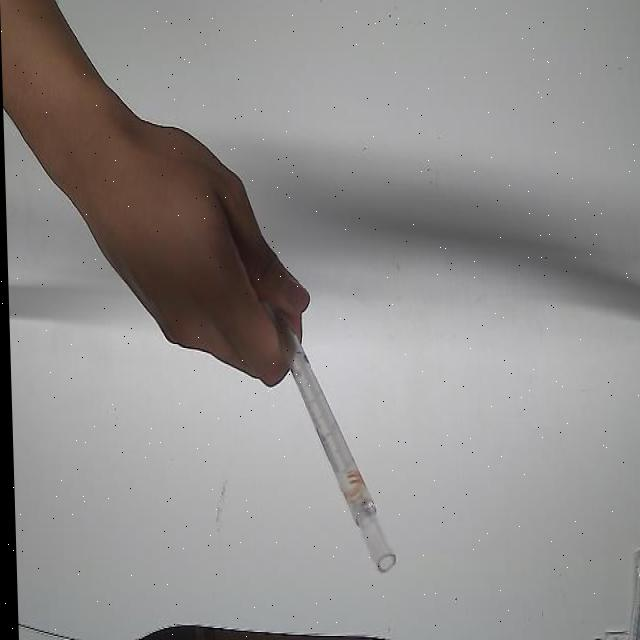Serelogical Pipet 10 mL: (244, 277, 397, 577)
